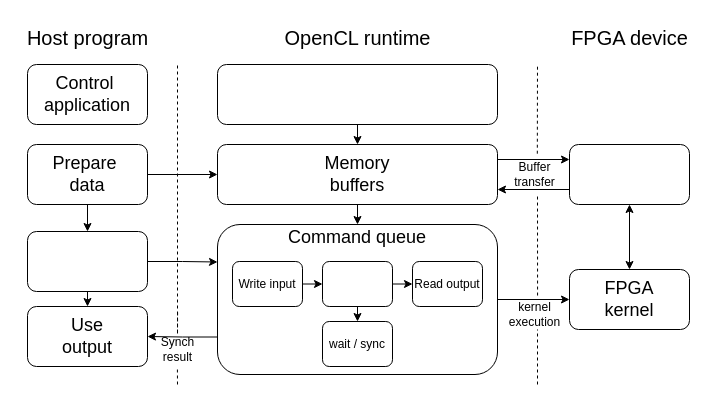
This 716x403 diagram has some shape labels left out. The centre of each missing label's shape, as x and y in pixels:
"Context and device selection" goes at (357,94).
"DMA interface" goes at (629,174).
"Launch kernel" goes at (357,283).
"Submit commands" goes at (87,261).
